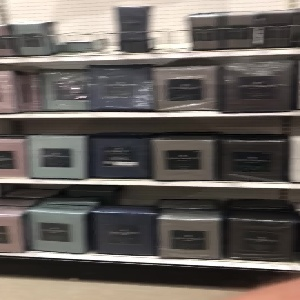void: (52, 1, 118, 50), (153, 1, 194, 50)
